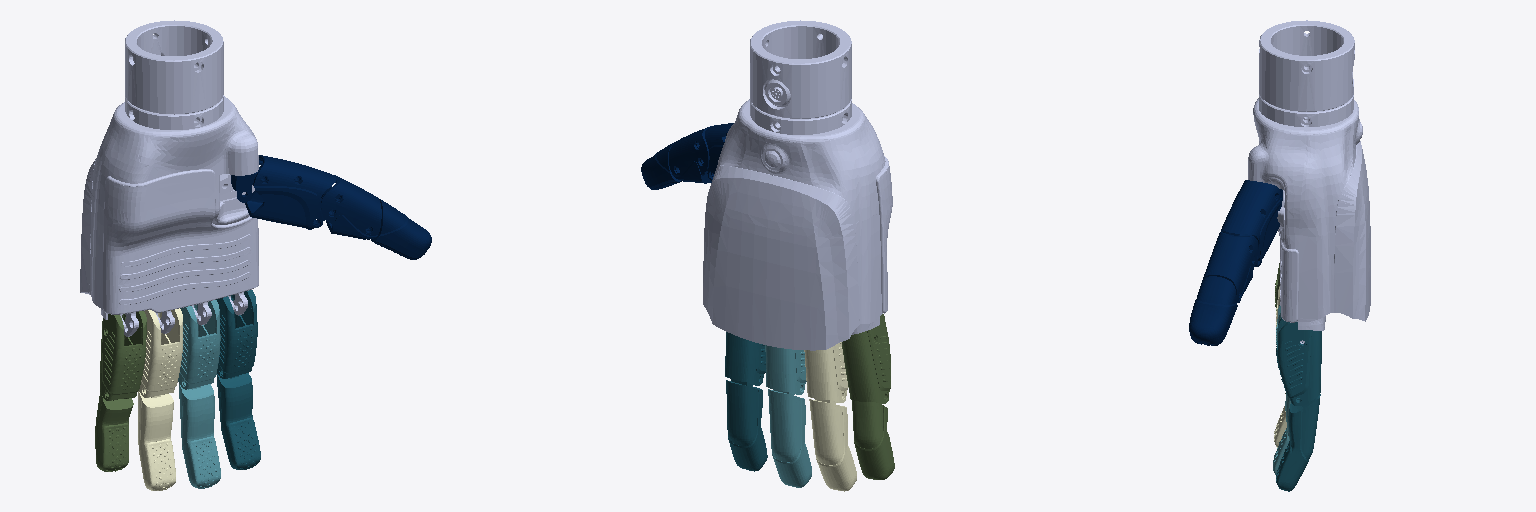
URDF robot description (combined_robot):
<?xml version="1.0" ?>
<!-- =================================================================================== -->
<!-- |    This document was autogenerated by xacro from [local-path]/paradex/paradex/utils/../../rsc/robot/robot_combined.urdf.xacro | -->
<!-- |    EDITING THIS FILE BY HAND IS NOT RECOMMENDED                                 | -->
<!-- =================================================================================== -->
<robot name="combined_robot">
  <!--
      Material colors
    -->
  <!-- Basic colors -->
  <material name="Black">
    <color rgba="0.0 0.0 0.0 1.0"/>
  </material>
  <material name="Red">
    <color rgba="0.8 0.0 0.0 1.0"/>
  </material>
  <material name="White">
    <color rgba="1.0 1.0 1.0 1.0"/>
  </material>
  <material name="Silver">
    <color rgba="0.753 0.753 0.753 1.0"/>
  </material>
  <!--
    Base
  -->
  <!-- Base link -->
  <link name="world"/>
  <joint name="world_joint" type="fixed">
    <parent link="world"/>
    <child link="link_base"/>
    <origin rpy="0 0 0" xyz="0 0 0"/>
  </joint>
  <link name="link_base">
    <visual>
      <geometry>
        <mesh filename="xarm/meshes/base.obj"/>
      </geometry>
      <origin rpy="0 0 0" xyz="0 0 0"/>
      <material name="White"/>
    </visual>
    <collision>
      <geometry>
        <mesh filename="xarm/meshes/base.obj"/>
      </geometry>
      <origin rpy="0 0 0" xyz="0 0 0"/>
    </collision>
    <inertial>
      <origin rpy="0 0 0" xyz="0.0 0.0 0.09103"/>
      <mass value="2.7"/>
      <inertia ixx="0.00494875" ixy="-3.5E-06" ixz="1.25E-05" iyy="0.00494174" iyz="1.67E-06" izz="0.002219"/>
    </inertial>
  </link>
  <link name="link1">
    <visual>
      <geometry>
        <mesh filename="xarm/meshes/link1.obj"/>
      </geometry>
      <origin rpy="0 0 0" xyz="0 0 0"/>
      <material name="White"/>
    </visual>
    <collision>
      <geometry>
        <mesh filename="xarm/meshes/link1.obj"/>
      </geometry>
      <origin rpy="0 0 0" xyz="0 0 0"/>
    </collision>
    <inertial>
      <origin rpy="0 0 0" xyz="-0.002 0.02692 -0.01332"/>
      <mass value="2.16"/>
      <inertia ixx="0.00539427" ixy="1.095E-05" ixz="1.635E-06" iyy="0.0048979" iyz="0.000793" izz="0.00311573"/>
    </inertial>
  </link>
  <joint name="joint1" type="revolute">
    <parent link="link_base"/>
    <child link="link1"/>
    <origin rpy="0 0 0" xyz="0 0 0.267"/>
    <axis xyz="0 0 1"/>
    <limit effort="500.0" lower="-6.28318530718" upper="6.28318530718" velocity="3.14"/>
    <dynamics damping="0.0001" friction="0.01"/>
  </joint>
  <link name="link2">
    <visual>
      <geometry>
        <mesh filename="xarm/meshes/link2.obj"/>
      </geometry>
      <origin rpy="0 0 0" xyz="0 0 0"/>
      <material name="White"/>
    </visual>
    <collision>
      <geometry>
        <mesh filename="xarm/meshes/link2.obj"/>
      </geometry>
      <origin rpy="0 0 0" xyz="0 0 0"/>
    </collision>
    <inertial>
      <origin rpy="0 0 0" xyz="0.03531 -0.21398 0.03386"/>
      <mass value="1.71"/>
      <inertia ixx="0.0248674" ixy="-0.00430651" ixz="-0.00067797" iyy="0.00485548" iyz="0.00457245" izz="0.02387827"/>
    </inertial>
  </link>
  <joint name="joint2" type="revolute">
    <parent link="link1"/>
    <child link="link2"/>
    <origin rpy="-1.5708 0 0" xyz="0 0 0"/>
    <axis xyz="0 0 1"/>
    <limit effort="50.0" lower="-2.059" upper="2.0944" velocity="3.14"/>
    <dynamics damping="0.0001" friction="0.01"/>
  </joint>
  <link name="link3">
    <visual>
      <geometry>
        <mesh filename="xarm/meshes/link3.obj"/>
      </geometry>
      <origin rpy="0 0 0" xyz="0 0 0"/>
      <material name="White"/>
    </visual>
    <collision>
      <geometry>
        <mesh filename="xarm/meshes/link3.obj"/>
      </geometry>
      <origin rpy="0 0 0" xyz="0 0 0"/>
    </collision>
    <inertial>
      <origin rpy="0 0 0" xyz="0.06781 0.10749 0.01457"/>
      <mass value="1.384"/>
      <inertia ixx="0.0053694" ixy="0.0014185" ixz="-0.00092094" iyy="0.0032423" iyz="-0.00169178" izz="0.00501731"/>
    </inertial>
  </link>
  <joint name="joint3" type="revolute">
    <parent link="link2"/>
    <child link="link3"/>
    <origin rpy="0 0 0" xyz="0.0535 -0.2845 0"/>
    <axis xyz="0 0 1"/>
    <limit effort="32.0" lower="-3.927" upper="0.19198" velocity="3.14"/>
    <dynamics damping="0.0001" friction="0.01"/>
  </joint>
  <link name="link4">
    <visual>
      <geometry>
        <mesh filename="xarm/meshes/link4.obj"/>
      </geometry>
      <origin rpy="0 0 0" xyz="0 0 0"/>
      <material name="White"/>
    </visual>
    <collision>
      <geometry>
        <mesh filename="xarm/meshes/link4.obj"/>
      </geometry>
      <origin rpy="0 0 0" xyz="0 0 0"/>
    </collision>
    <inertial>
      <origin rpy="0 0 0" xyz="-0.00021 0.02578 -0.02538"/>
      <mass value="1.115"/>
      <inertia ixx="0.00439263" ixy="5.028E-05" ixz="1.374E-05" iyy="0.0040077" iyz="0.00045338" izz="0.00110321"/>
    </inertial>
  </link>
  <joint name="joint4" type="revolute">
    <parent link="link3"/>
    <child link="link4"/>
    <origin rpy="-1.5708 0 0" xyz="0.0775 0.3425 0"/>
    <axis xyz="0 0 1"/>
    <limit effort="32.0" lower="-6.28318530718" upper="6.28318530718" velocity="3.14"/>
    <dynamics damping="0.0001" friction="0.01"/>
  </joint>
  <link name="link5">
    <visual>
      <geometry>
        <mesh filename="xarm/meshes/link5.obj"/>
      </geometry>
      <origin rpy="0 0 0" xyz="0 0 0"/>
      <material name="White"/>
    </visual>
    <collision>
      <geometry>
        <mesh filename="xarm/meshes/link5.obj"/>
      </geometry>
      <origin rpy="0 0 0" xyz="0 0 0"/>
    </collision>
    <inertial>
      <origin rpy="0 0 0" xyz="0.05428 0.01781 0.00543"/>
      <mass value="1.275"/>
      <inertia ixx="0.001202758" ixy="0.000492428" ixz="-0.00039147" iyy="0.0022876" iyz="-1.235E-04" izz="0.0026866"/>
    </inertial>
  </link>
  <joint name="joint5" type="revolute">
    <parent link="link4"/>
    <child link="link5"/>
    <origin rpy="1.5708 0 0" xyz="0 0 0"/>
    <axis xyz="0 0 1"/>
    <limit effort="32.0" lower="-1.69297" upper="3.14159265359" velocity="3.14"/>
    <dynamics damping="0.0001" friction="0.01"/>
  </joint>
  <link name="link6">
    <visual>
      <geometry>
        <mesh filename="xarm/meshes/link6.obj"/>
      </geometry>
      <origin rpy="0 0 0" xyz="0 0 0"/>
      <material name="Silver"/>
    </visual>
    <collision>
      <geometry>
        <mesh filename="xarm/meshes/link6.obj"/>
      </geometry>
      <origin rpy="0 0 0" xyz="0 0 0"/>
    </collision>
    <inertial>
      <origin rpy="0 0 0" xyz="0 0.00064 -0.00952"/>
      <mass value="0.1096"/>
      <inertia ixx="4.5293E-05" ixy="0" ixz="0" iyy="4.8111E-05" iyz="0" izz="7.9715E-05"/>
    </inertial>
  </link>
  <joint name="joint6" type="revolute">
    <parent link="link5"/>
    <child link="link6"/>
    <origin rpy="-1.5708 0 0" xyz="0.076 0.097 0"/>
    <axis xyz="0 0 1"/>
    <limit effort="20.0" lower="-6.28318530718" upper="6.28318530718" velocity="3.14"/>
    <dynamics damping="0.0001" friction="0.01"/>
  </joint>
  <link name="wrist"/>
  <joint name="L_hand_base_joint" type="fixed">
    <origin rpy="0  0 0" xyz="0 0 0"/>
    <parent link="wrist"/>
    <child link="base_link"/>
  </joint>
  <link name="base_link">
    <inertial>
      <origin rpy="0 0 0" xyz="-5.81855257230368E-05 0.0036855956860619 -0.0826153899028331"/>
      <mass value="0.260034351097693"/>
      <inertia ixx="0.000223659755666589" ixy="-1.13436481934473E-06" ixz="5.34309354519849E-07" iyy="0.000266799681483547" iyz="1.40944118648867E-05" izz="0.000132857769181899"/>
    </inertial>
    <visual>
      <origin rpy="0 0 0" xyz="0 0 0"/>
      <geometry>
        <mesh filename="inspire/meshes_left/base_link.STL"/>
      </geometry>
      <material name="">
        <color rgba="0.792156862745098 0.819607843137255 0.933333333333333 1"/>
      </material>
    </visual>
    <collision>
      <origin rpy="0 0 0" xyz="0 0 0"/>
      <geometry>
        <mesh filename="inspire/meshes_left/base_link.STL"/>
      </geometry>
    </collision>
  </link>
  <link name="left_thumb_1">
    <inertial>
      <origin rpy="0 0 0" xyz="0.00178423404495211 -0.000649404577309123 -0.0031358931043441"/>
      <mass value="0.00115518743162309"/>
      <inertia ixx="5.98912200501135E-08" ixy="-8.04315731947437E-09" ixz="-3.29346919841095E-09" iyy="4.07201234589857E-08" iyz="1.19872544716431E-09" izz="6.18161684388651E-08"/>
    </inertial>
    <visual>
      <origin rpy="0 0 0" xyz="0 0 0"/>
      <geometry>
        <mesh filename="inspire/meshes_left/left_thumb_1.STL"/>
      </geometry>
      <material name="">
        <color rgba="0.047 0.173 0.333 1.0"/>
      </material>
    </visual>
    <collision>
      <origin rpy="0 0 0" xyz="0 0 0"/>
      <geometry>
        <mesh filename="inspire/meshes_left/left_thumb_1.STL"/>
      </geometry>
    </collision>
  </link>
  <joint name="left_thumb_1_joint" type="revolute">
    <origin rpy="0 0 0" xyz="0.0269 -0.02101 -0.07075"/>
    <parent link="base_link"/>
    <child link="left_thumb_1"/>
    <axis xyz="0 0 -1"/>
    <limit effort="10" lower="0" upper="1.15" velocity="1"/>
  </joint>
  <link name="left_thumb_2">
    <inertial>
      <origin rpy="0 0 0" xyz="0.0141077165126408 0.013272947664556 0.00905027694248729"/>
      <mass value="0.016"/>
      <inertia ixx="1.06585698719649E-06" ixy="-7.62263321516971E-08" ixz="2.95033226564006E-11" iyy="1.06558155578278E-06" iyz="1.55271585897891E-11" izz="1.39709651951733E-06"/>
    </inertial>
    <visual>
      <origin rpy="0 0 0" xyz="0 0 0"/>
      <geometry>
        <mesh filename="inspire/meshes_left/left_thumb_2.STL"/>
      </geometry>
      <material name="">
        <color rgba="0.047 0.173 0.333 1.0"/>
      </material>
    </visual>
    <collision>
      <origin rpy="0 0 0" xyz="0 0 0"/>
      <geometry>
        <mesh filename="inspire/meshes_left/left_thumb_2.STL"/>
      </geometry>
    </collision>
  </link>
  <joint name="left_thumb_2_joint" type="revolute">
    <origin rpy="-1.5708 0 -0.34907" xyz="0.0063016 -0.011924 -0.00125"/>
    <parent link="left_thumb_1"/>
    <child link="left_thumb_2"/>
    <axis xyz="0 0 1"/>
    <limit effort="10" lower="0" upper="0.55" velocity="1"/>
  </joint>
  <link name="left_thumb_3">
    <inertial>
      <origin rpy="0 0 0" xyz="0.0175210608796189 -0.000458783419545392 0.00589186777098984"/>
      <mass value="0.012"/>
      <inertia ixx="4.67948369620491E-07" ixy="-4.4974688607358E-08" ixz="1.01425359574474E-11" iyy="3.98794196148187E-07" iyz="2.07037920898898E-10" izz="4.24723917424999E-07"/>
    </inertial>
    <visual>
      <origin rpy="0 0 0" xyz="0 0 0"/>
      <geometry>
        <mesh filename="inspire/meshes_left/left_thumb_3.STL"/>
      </geometry>
      <material name="">
        <color rgba="0.047 0.173 0.333 1.0"/>
      </material>
    </visual>
    <collision>
      <origin rpy="0 0 0" xyz="0 0 0"/>
      <geometry>
        <mesh filename="inspire/meshes_left/left_thumb_3.STL"/>
      </geometry>
    </collision>
  </link>
  <joint name="left_thumb_3_joint" type="revolute">
    <origin rpy="0 0 0" xyz="0.026828 0.02583 0.00315"/>
    <parent link="left_thumb_2"/>
    <child link="left_thumb_3"/>
    <axis xyz="0 0 1"/>
    <limit effort="10" lower="0" upper="3.14" velocity="1"/>
    <!-- <mimic joint="left_thumb_2_joint" multiplier="0.60" offset="0"/> -->
    <!-- <mimic joint="left_thumb_2_joint" multiplier="1.334" offset="0"/> -->
    <!-- <mimic joint="left_thumb_2_joint" multiplier="1.114" offset="0"/> -->
  </joint>
  <link name="left_thumb_4">
    <inertial>
      <origin rpy="0 0 0" xyz="0.0159972574626049 0.0063105797700872 0.0073433144647696"/>
      <mass value="0.01"/>
      <inertia ixx="6.4362640059723E-07" ixy="-2.57376746969386E-07" ixz="-8.63129696542143E-10" iyy="7.63678708562786E-07" iyz="-7.21288836303217E-10" izz="9.2570163408105E-07"/>
    </inertial>
    <visual>
      <origin rpy="0 0 0" xyz="0 0 0"/>
      <geometry>
        <mesh filename="inspire/meshes_left/left_thumb_4.STL"/>
      </geometry>
      <material name="">
        <color rgba="0.047 0.173 0.333 1.0"/>
      </material>
    </visual>
    <collision>
      <origin rpy="0 0 0" xyz="0 0 0"/>
      <geometry>
        <mesh filename="inspire/meshes_left/left_thumb_4.STL"/>
      </geometry>
    </collision>
  </link>
  <joint name="left_thumb_4_joint" type="revolute">
    <origin rpy="0 0 0" xyz="0.027027 0.0069965 -0.00145"/>
    <parent link="left_thumb_3"/>
    <child link="left_thumb_4"/>
    <axis xyz="0 0 1"/>
    <limit effort="10" lower="0" upper="3.14" velocity="1"/>
    <!-- <mimic joint="left_thumb_2_joint" multiplier="0.8" offset="0"/> -->
    <!-- <mimic joint="left_thumb_2_joint" multiplier="0.62" offset="0"/> -->
  </joint>
  <link name="left_index_1">
    <inertial>
      <origin rpy="0 0 0" xyz="-0.00183599258071257 0.0123544163382434 -0.00665152565125451"/>
      <mass value="0.0071995003148682"/>
      <inertia ixx="1.28363093823079E-06" ixy="4.22091506924093E-08" ixz="-1.1741465013013E-12" iyy="5.79447850871435E-07" iyz="-8.63816965731366E-11" izz="1.32914845722975E-06"/>
    </inertial>
    <visual>
      <origin rpy="0 0 0" xyz="0 0 0"/>
      <geometry>
        <mesh filename="inspire/meshes_left/left_index_1.STL"/>
      </geometry>
      <material name="">
        <color rgba="0.161 0.388 0.455 1.0"/>
      </material>
    </visual>
    <collision>
      <origin rpy="0 0 0" xyz="0 0 0"/>
      <geometry>
        <mesh filename="inspire/meshes_left/left_index_1.STL"/>
      </geometry>
    </collision>
  </link>
  <joint name="left_index_1_joint" type="revolute">
    <origin rpy="-1.6057 0 1.5708" xyz="0.025387 -0.00056467 -0.15686"/>
    <parent link="base_link"/>
    <child link="left_index_1"/>
    <axis xyz="0 0 1"/>
    <limit effort="10" lower="0" upper="1.6" velocity="1"/>
  </joint>
  <link name="left_index_2">
    <inertial>
      <origin rpy="0 0 0" xyz="0.000405420051948283 0.0257003783460073 -0.00610830787560272"/>
      <mass value="0.00968688267109518"/>
      <inertia ixx="2.25563043691857E-06" ixy="4.11282885240034E-07" ixz="3.87338024122588E-10" iyy="3.91279806505403E-07" iyz="-2.76559043550419E-09" izz="2.30247359295784E-06"/>
    </inertial>
    <visual>
      <origin rpy="0 0 0" xyz="0 0 0"/>
      <geometry>
        <mesh filename="inspire/meshes_left/left_index_2.STL"/>
      </geometry>
      <material name="">
        <color rgba="0.161 0.388 0.455 1.0"/>
      </material>
    </visual>
    <collision>
      <origin rpy="0 0 0" xyz="0 0 0"/>
      <geometry>
        <mesh filename="inspire/meshes_left/left_index_2.STL"/>
      </geometry>
    </collision>
  </link>
  <joint name="left_index_2_joint" type="revolute">
    <origin rpy="0 0 0" xyz="-0.0016312 0.032734 -0.00055"/>
    <parent link="left_index_1"/>
    <child link="left_index_2"/>
    <axis xyz="0 0 1"/>
    <limit effort="10" lower="0" upper="3.14" velocity="1"/>
    <!-- <mimic joint="left_index_1_joint" multiplier="1.05" offset="0"/> -->
    <!-- <mimic joint="left_index_1_joint" multiplier="1.06399" offset="-0.04545"/> -->
    <!-- <mimic joint="left_index_1_joint" multiplier="0.67" offset="0.22"/> -->

  </joint>
  <link name="left_middle_1">
    <inertial>
      <origin rpy="0 0 0" xyz="-0.00229271394242232 0.0122778605414752 -0.00665151068667683"/>
      <mass value="0.00719950322487974"/>
      <inertia ixx="1.27951858905779E-06" ixy="6.81813021711596E-08" ixz="1.58551121583499E-12" iyy="5.83543537428452E-07" iyz="-8.56179612608701E-11" izz="1.32913234511164E-06"/>
    </inertial>
    <visual>
      <origin rpy="0 0 0" xyz="0 0 0"/>
      <geometry>
        <mesh filename="inspire/meshes_left/left_middle_1.STL"/>
      </geometry>
      <material name="">
        <color rgba="0.384 0.624 0.678 1.0"/>
      </material>
    </visual>
    <collision>
      <origin rpy="0 0 0" xyz="0 0 0"/>
      <geometry>
        <mesh filename="inspire/meshes_left/left_middle_1.STL"/>
      </geometry>
    </collision>
  </link>
  <joint name="left_middle_1_joint" type="revolute">
    <origin rpy="-1.5708 0 1.5708" xyz="0.0037996 -0.00056467 -0.157"/>
    <parent link="base_link"/>
    <child link="left_middle_1"/>
    <axis xyz="0 0 1"/>
    <limit effort="1" lower="0" upper="1.6" velocity="1"/>
  </joint>
  <link name="left_middle_2">
    <inertial>
      <origin rpy="0 0 0" xyz="7.51983994427274E-05 0.027448753770842 -0.00610022997575017"/>
      <mass value="0.0104611931926301"/>
      <inertia ixx="2.75831931773332E-06" ixy="4.66412841401028E-07" ixz="7.35766561775226E-12" iyy="4.22466538741155E-07" iyz="-1.79608426686769E-11" izz="2.80722617348706E-06"/>
    </inertial>
    <visual>
      <origin rpy="0 0 0" xyz="0 0 0"/>
      <geometry>
        <mesh filename="inspire/meshes_left/left_middle_2.STL"/>
      </geometry>
      <material name="">
        <color rgba="0.384 0.624 0.678 1.0"/>
      </material>
    </visual>
    <collision>
      <origin rpy="0 0 0" xyz="0 0 0"/>
      <geometry>
        <mesh filename="inspire/meshes_left/left_middle_2.STL"/>
      </geometry>
    </collision>
  </link>
  <joint name="left_middle_2_joint" type="revolute">
    <origin rpy="0 0 0" xyz="-0.0028436 0.032651 -0.00055"/>
    <parent link="left_middle_1"/>
    <child link="left_middle_2"/>
    <axis xyz="0 0 1"/>
    <limit effort="10" lower="0" upper="3.14" velocity="1"/>
    <!-- <mimic joint="left_middle_1_joint" multiplier="0.88" offset="0.15"/> -->
  </joint>
  <link name="left_ring_1">
    <inertial>
      <origin rpy="0 0 0" xyz="-0.00240530428455066 0.0122563079467745 -0.00665150968297497"/>
      <mass value="0.00719949770218712"/>
      <inertia ixx="1.27820682409824E-06" ixy="7.45572429780093E-08" ixz="2.25718181808859E-12" iyy="5.84853511073517E-07" iyz="-8.56222330411309E-11" izz="1.32913088941838E-06"/>
    </inertial>
    <visual>
      <origin rpy="0 0 0" xyz="0 0 0"/>
      <geometry>
        <mesh filename="inspire/meshes_left/left_ring_1.STL"/>
      </geometry>
      <material name="">
        <color rgba="0.929 0.929 0.808 1.0"/>
      </material>
    </visual>
    <collision>
      <origin rpy="0 0 0" xyz="0 0 0"/>
      <geometry>
        <mesh filename="inspire/meshes_left/left_ring_1.STL"/>
      </geometry>
    </collision>
  </link>
  <joint name="left_ring_1_joint" type="revolute">
    <origin rpy="-1.5184 0 1.5708" xyz="-0.017813 -0.00056467 -0.15614"/>
    <parent link="base_link"/>
    <child link="left_ring_1"/>
    <axis xyz="0 0 1"/>
    <limit effort="10" lower="0" upper="1.6" velocity="1"/>
  </joint>
  <link name="left_ring_2">
    <inertial>
      <origin rpy="0 0 0" xyz="0.000667145407605998 0.0256949163202511 -0.00610829894053159"/>
      <mass value="0.00968685177133057"/>
      <inertia ixx="2.26381138740299E-06" ixy="3.92210300202205E-07" ixz="3.58404653503583E-10" iyy="3.83095000534084E-07" iyz="-2.77027363965469E-09" izz="2.30247104599333E-06"/>
    </inertial>
    <visual>
      <origin rpy="0 0 0" xyz="0 0 0"/>
      <geometry>
        <mesh filename="inspire/meshes_left/left_ring_2.STL"/>
      </geometry>
      <material name="">
        <color rgba="0.929 0.929 0.808 1.0"/>
      </material>
    </visual>
    <collision>
      <origin rpy="0 0 0" xyz="0 0 0"/>
      <geometry>
        <mesh filename="inspire/meshes_left/left_ring_2.STL"/>
      </geometry>
    </collision>
  </link>
  <joint name="left_ring_2_joint" type="revolute">
    <origin rpy="0 0 0" xyz="-0.0031431 0.032624 -0.00055"/>
    <parent link="left_ring_1"/>
    <child link="left_ring_2"/>
    <axis xyz="0 0 1"/>
    <limit effort="10" lower="0" upper="3.14" velocity="1"/>
    <!-- <mimic joint="left_ring_1_joint" multiplier="1.05" offset="0"/> -->
  </joint>
  <link name="left_little_1">
    <inertial>
      <origin rpy="0 0 0" xyz="-0.00316889023513399 0.0120814769898197 -0.00665148964848"/>
      <mass value="0.0071994553320001"/>
      <inertia ixx="1.26614239360362E-06" ixy="1.17349328114653E-07" ixz="6.69925886240907E-12" iyy="5.96905140854994E-07" iyz="-8.54914063893311E-11" izz="1.32912203576944E-06"/>
    </inertial>
    <visual>
      <origin rpy="0 0 0" xyz="0 0 0"/>
      <geometry>
        <mesh filename="inspire/meshes_left/left_little_1.STL"/>
      </geometry>
      <material name="">
        <color rgba="0.369 0.451 0.314 1.0"/>
      </material>
    </visual>
    <collision>
      <origin rpy="0 0 0" xyz="0 0 0"/>
      <geometry>
        <mesh filename="inspire/meshes_left/left_little_1.STL"/>
      </geometry>
    </collision>
  </link>
  <joint name="left_little_1_joint" type="revolute">
    <origin rpy="-1.4661 0 1.5708" xyz="-0.039144 -0.00056467 -0.15226"/>
    <parent link="base_link"/>
    <child link="left_little_1"/>
    <axis xyz="0 0 1"/>
    <limit effort="10" lower="0" upper="1.6" velocity="1"/>
  </joint>
  <link name="left_little_2">
    <inertial>
      <origin rpy="0 0 0" xyz="0.00469503836926433 0.020441957551037 -0.0061004930536056"/>
      <mass value="0.00759267726265222"/>
      <inertia ixx="1.27661762368947E-06" ixy="7.27034842413144E-08" ixz="1.62724400979504E-12" iyy="2.31536498425727E-07" iyz="-9.71604458446237E-12" izz="1.23907231734916E-06"/>
    </inertial>
    <visual>
      <origin rpy="0 0 0" xyz="0 0 0"/>
      <geometry>
        <mesh filename="inspire/meshes_left/left_little_2.STL"/>
      </geometry>
      <material name="">
        <color rgba="0.369 0.451 0.314 1.0"/>
      </material>
    </visual>
    <collision>
      <origin rpy="0 0 0" xyz="0 0 0"/>
      <geometry>
        <mesh filename="inspire/meshes_left/left_little_2.STL"/>
      </geometry>
    </collision>
  </link>
  <joint name="left_little_2_joint" type="revolute">
    <origin rpy="0 0 0" xyz="-0.005182 0.032363 -0.00055"/>
    <parent link="left_little_1"/>
    <child link="left_little_2"/>
    <axis xyz="0 0 1"/>
    <!-- <limit effort="10" lower="0" upper="3.14" velocity="1"/> -->
    <!-- <mimic joint="left_little_1_joint" multiplier="1.18" offset="0"/> -->
    <limit lower="-0.04545" upper="1.56" effort="1" velocity="0.5"/>
    <!-- <mimic joint="left_little_1_joint" multiplier="1.06399" offset="-0.04545"/> -->
    <!-- <mimic joint="left_little_1_joint" multiplier="0.9889" offset="-0.03126"/> -->

  </joint>
  <joint name="arm_to_hand" type="fixed">
    <parent link="link6"/>
    <child link="wrist"/>
    <!-- <origin rpy="3.128 0.00000 0.0000" xyz="0.00450 0.00000 0.0350"/> -->
    <origin rpy="3.13 0.00000 0.0000" xyz="0.0018 0.002 0.0350"/>
  </joint>
</robot>

--- What the picture shows (computed from the rendered views, not written in the file) ---
The picture shows the robot from 3 angles, left to right: view 1: azimuth 30°, elevation 25°; view 2: azimuth 150°, elevation 25°; view 3: azimuth 270°, elevation 25°; orthographic projection.
Model combined_robot with 22 links and 21 joints (18 revolute, 3 fixed), rooted at world, posed every joint at zero.
Links seen in each view (by area): view 1: base_link, left_thumb_2, left_middle_2, left_little_1, left_ring_2, left_index_2, left_ring_1, left_middle_1, left_thumb_3, left_index_1, left_little_2, left_thumb_4 (+1 smaller); view 2: base_link, left_middle_2, left_little_1, left_ring_2, left_index_2, left_little_2, left_ring_1, left_thumb_3, left_index_1, left_middle_1, left_thumb_4, left_thumb_2; view 3: base_link, left_index_1, left_thumb_2, left_thumb_4, left_index_2, left_thumb_3.
Boxes of the visible links, x1,y1,x2,y2 form: base_link: (80, 20, 258, 336); left_thumb_2: (245, 155, 335, 229); left_middle_2: (179, 384, 220, 488); left_little_1: (100, 311, 146, 400); left_ring_2: (138, 391, 175, 490); left_index_2: (217, 373, 260, 469); left_ring_1: (139, 308, 182, 397); left_middle_1: (178, 300, 220, 389); left_thumb_3: (321, 175, 381, 239); left_index_1: (216, 290, 257, 378); left_little_2: (95, 392, 133, 471); left_thumb_4: (366, 199, 431, 259); base_link: (703, 20, 892, 350); left_middle_2: (768, 389, 811, 487); left_little_1: (842, 314, 890, 403); left_ring_2: (809, 398, 856, 491); left_index_2: (726, 379, 767, 471); left_little_2: (852, 400, 894, 479); left_ring_1: (804, 342, 848, 402); left_thumb_3: (669, 125, 715, 183); left_index_1: (725, 332, 765, 385); left_middle_1: (765, 345, 806, 394); left_thumb_4: (641, 142, 681, 189); left_thumb_2: (705, 123, 733, 180); base_link: (1248, 20, 1370, 343); left_index_1: (1276, 318, 1321, 405); left_thumb_2: (1221, 180, 1281, 266); left_thumb_4: (1189, 276, 1237, 345); left_index_2: (1276, 394, 1320, 491); left_thumb_3: (1202, 232, 1257, 302).
Size in the robot's own frame: 0.1666 by 0.0951 by 0.2471 metres.
13 mesh visuals loaded from 20 distinct referenced files (13 binary STL); not drawn: 7 (reference not matched to a file when rendering).